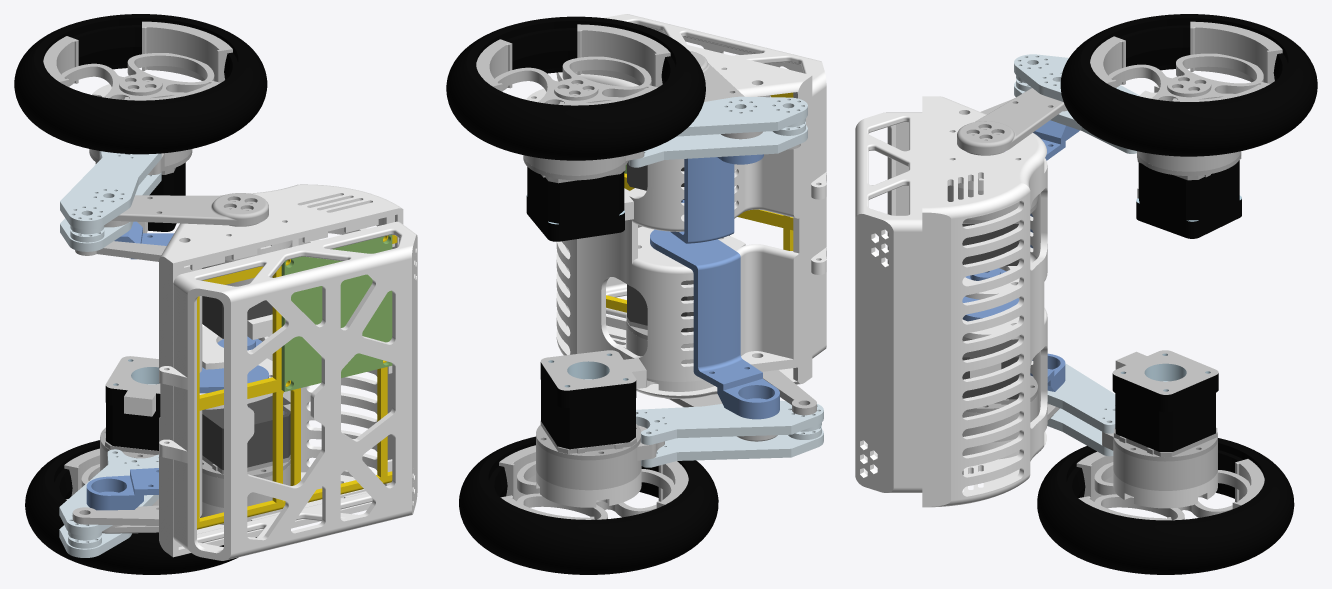
File: Assembly_All.glb
3 views of the same model, side by side, from view 1: azimuth 30°, elevation 25°; view 2: azimuth 150°, elevation 25°; view 3: azimuth 270°, elevation 25° (orthographic). The views are drawn at different scales.
Parts seen in each view (by area): view 1: Body_Lid, Wheel (×2), Part 1 (×2), Wheel_Spoke (×2), Body_circuitHolder, Part 4 (×2), Esp32_base, Nidec_42x34 (×2), Part 2 (×3), Nema17_42x23 (×2), Part 3 (×2), Part 13 (×2) (+2 smaller); view 2: Part 1 (×2), Wheel (×2), Part 3 (×4), Nidec_42x34 (×2), Wheel_Spoke (×2), Part 4 (×2), Body_Lid, Part 13 (×2), Part 2 (×4), Base_GearBox (×2), Nema17_42x23 (×2), Body_circuitHolder (+1 smaller); view 3: Part 1 (×3), Wheel (×2), Body_Lid, Nidec_42x34 (×2), Wheel_Spoke (×2), Part 2 (×3), Part 4 (×2), Part 3 (×3), Nema17_42x23 (×2), Base_GearBox (×2), Part 13 (×2).
Boxes of the visible parts, <box> form: Body_Lid: <box>159,221,417,560</box>; Wheel (×2): <box>14,14,267,574</box>; Part 1 (×2): <box>159,184,403,557</box>; Wheel_Spoke (×2): <box>43,21,232,499</box>; Body_circuitHolder: <box>197,235,397,529</box>; Part 4 (×2): <box>59,151,161,540</box>; Esp32_base: <box>281,234,392,391</box>; Nidec_42x34 (×2): <box>105,162,185,450</box>; Part 2 (×3): <box>89,149,268,533</box>; Nema17_42x23 (×2): <box>202,296,290,469</box>; Part 3 (×2): <box>86,221,268,510</box>; Part 13 (×2): <box>59,172,161,557</box>; Part 1 (×2): <box>556,43,812,398</box>; Wheel (×2): <box>446,16,718,574</box>; Part 3 (×4): <box>536,154,779,507</box>; Nidec_42x34 (×2): <box>526,167,646,449</box>; Wheel_Spoke (×2): <box>476,24,688,519</box>; Part 4 (×2): <box>636,96,823,444</box>; Body_Lid: <box>604,14,826,358</box>; Part 13 (×2): <box>628,122,823,467</box>; Part 2 (×4): <box>523,50,777,490</box>; Base_GearBox (×2): <box>523,155,641,460</box>; Nema17_42x23 (×2): <box>627,161,693,332</box>; Body_circuitHolder: <box>606,92,793,312</box>; Part 1 (×3): <box>922,96,1047,507</box>; Wheel (×2): <box>1037,14,1317,574</box>; Body_Lid: <box>855,112,922,492</box>; Nidec_42x34 (×2): <box>1112,160,1241,451</box>; Wheel_Spoke (×2): <box>1076,21,1282,520</box>; Part 2 (×3): <box>957,88,1241,490</box>; Part 4 (×2): <box>1014,54,1139,433</box>; Part 3 (×3): <box>962,120,1217,508</box>; Nema17_42x23 (×2): <box>962,224,1019,399</box>; Base_GearBox (×2): <box>1113,152,1241,461</box>; Part 13 (×2): <box>1014,78,1136,456</box>.
Size of the model in its own units: 0.1756 by 0.27 by 0.2412.
